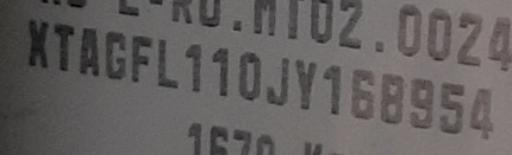letter: (348, 64, 378, 123), (466, 85, 496, 144), (438, 78, 466, 136), (377, 71, 405, 128), (408, 75, 436, 132), (264, 56, 292, 109), (24, 18, 50, 72), (50, 23, 76, 77), (76, 25, 102, 78), (236, 48, 262, 101), (294, 56, 318, 113), (104, 28, 128, 83), (130, 33, 154, 86), (156, 37, 180, 90), (182, 40, 204, 95), (320, 63, 342, 116), (210, 43, 230, 100)
